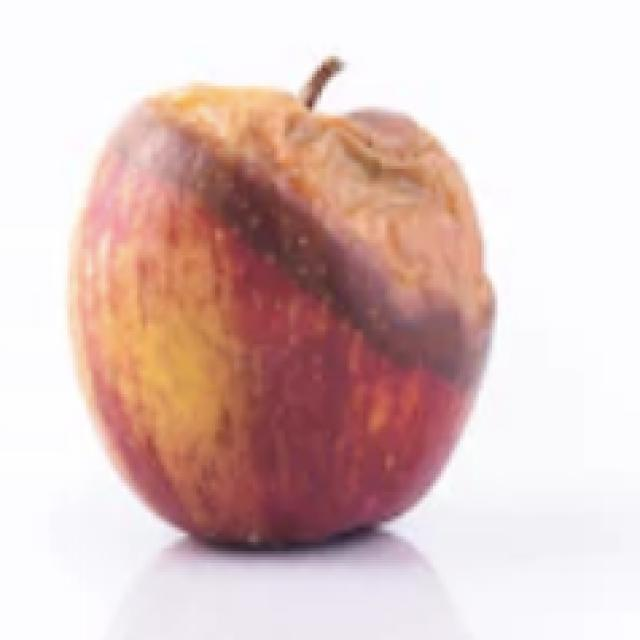Rotten: (70, 73, 500, 550)
